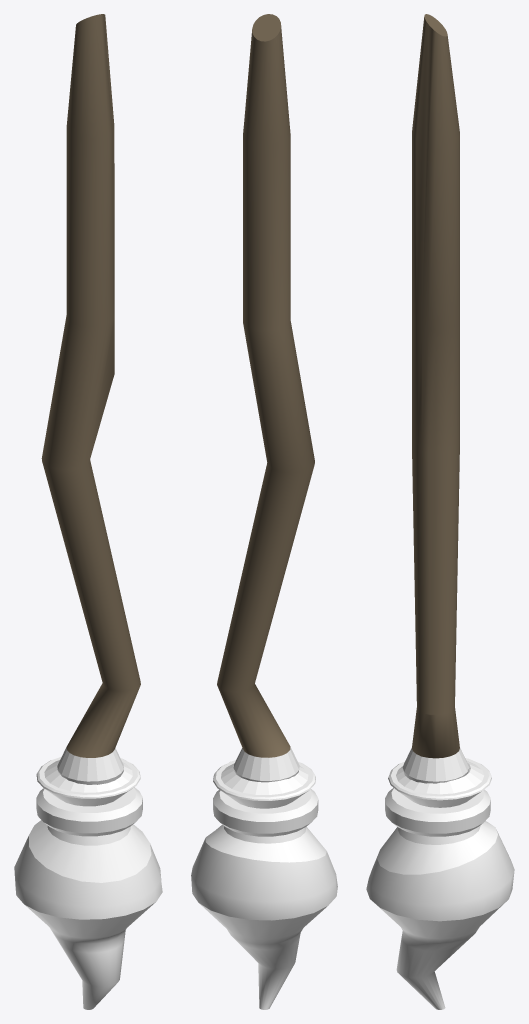
The model's file is BROOM01.fbx.
The picture shows the model from 3 angles, left to right: view 1: azimuth 30°, elevation 25°; view 2: azimuth 150°, elevation 25°; view 3: azimuth 270°, elevation 25°; orthographic projection.
Visible parts, largest first — view 1: BROOM:pCylinder5; view 2: BROOM:pCylinder5; view 3: BROOM:pCylinder5.
Boxes of the visible parts, x1=… form: BROOM:pCylinder5: x1=14, y1=14, x2=162, y2=1009; BROOM:pCylinder5: x1=191, y1=14, x2=337, y2=1009; BROOM:pCylinder5: x1=366, y1=14, x2=514, y2=1009.
Bounding box in the file's own units: 4.51 × 4.53 × 33.43.
